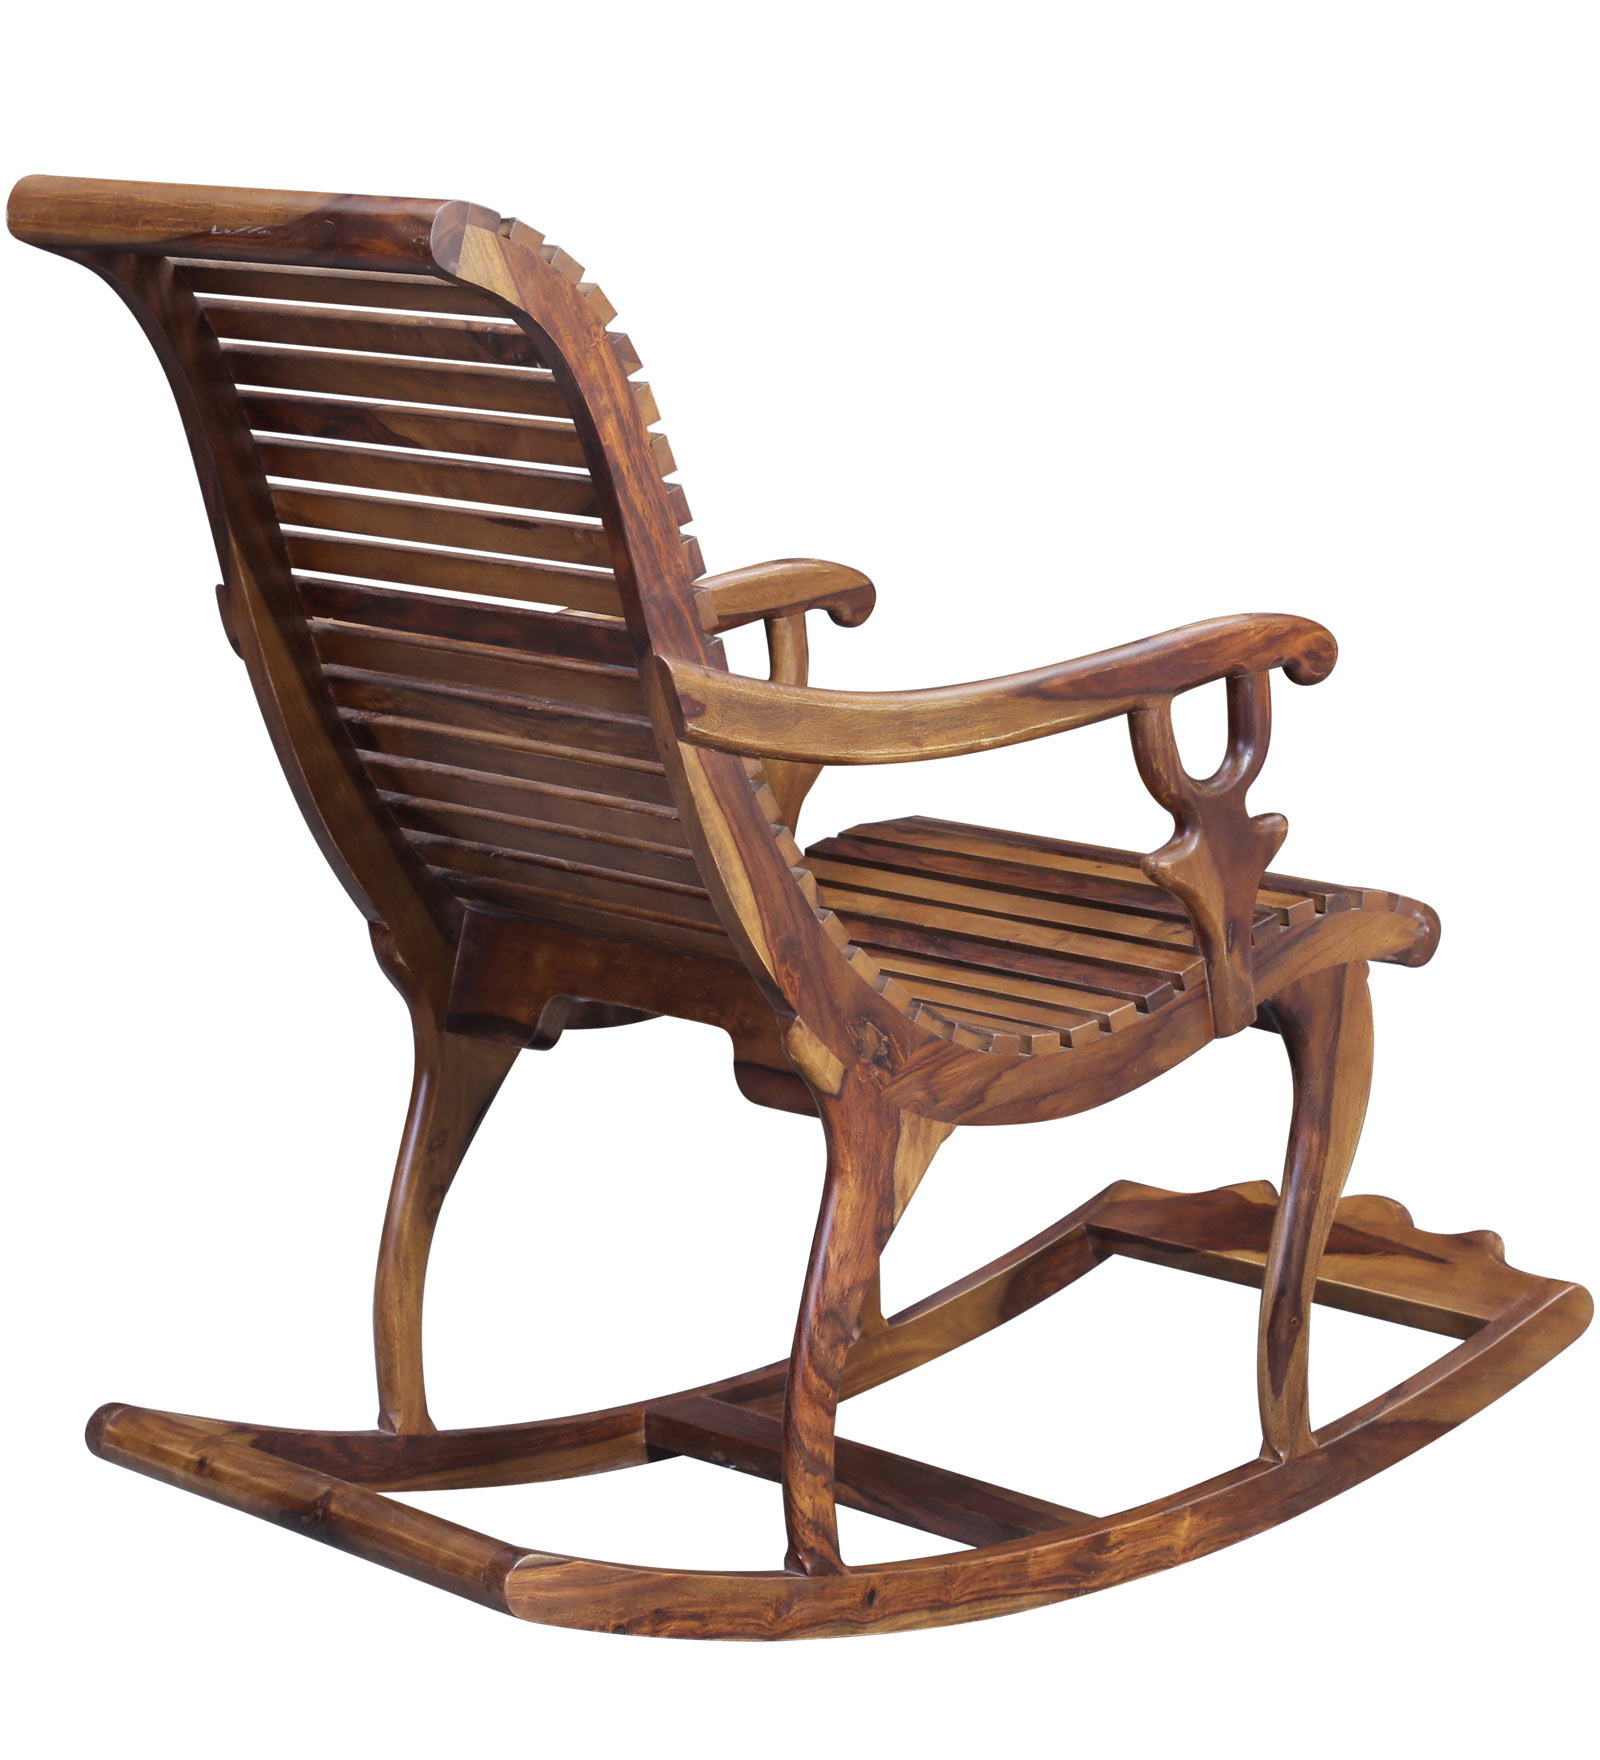Acklom Rocking Chair in Provincial Teak Finish by Amberville: (3, 120, 1600, 1640)
